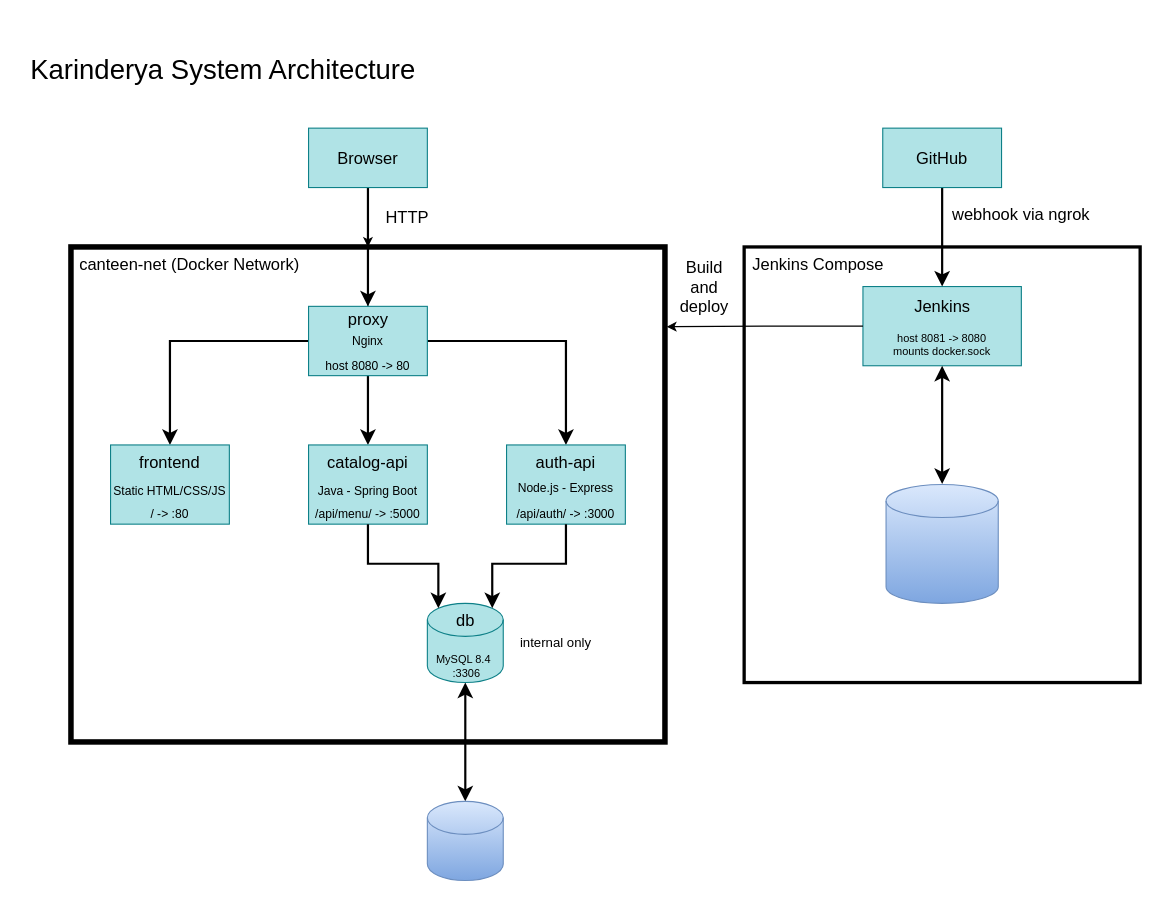
The diagram is 1161 pixels wide and 900 high, and some of its shapes have lost their labels. Here are the shapes that lost their labels. From the top down, the centre of each, then its label:
point (941, 543): jenkins_home volume
point (464, 840): db-data volume
